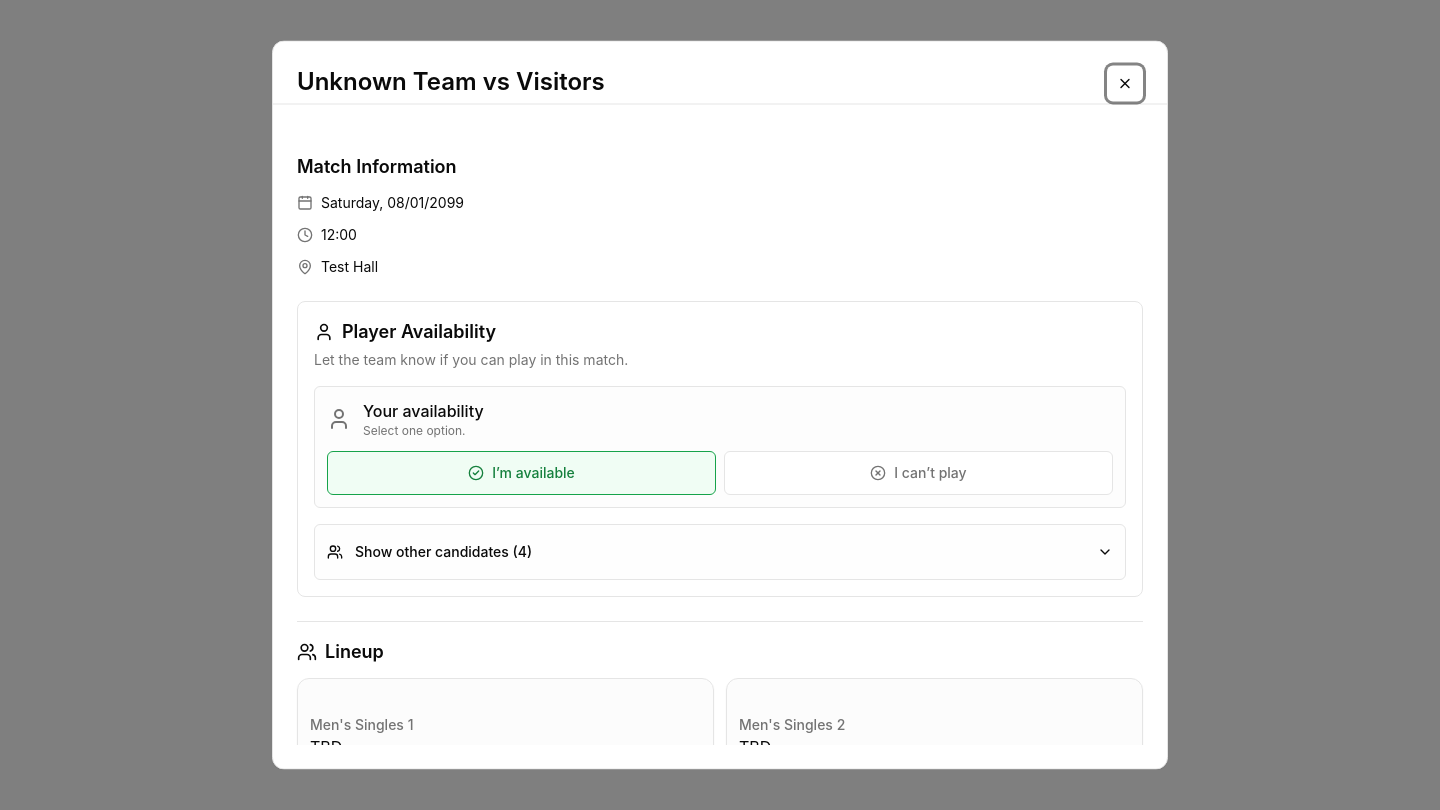
Test: explicit Match Availability › keeps self first and reveals other candidates as read-only secondary detail
Expected: the text "Explicit Available" is not shown
Click the button "Show other candidates (4)" at (444, 551), box [314,524,1126,580]
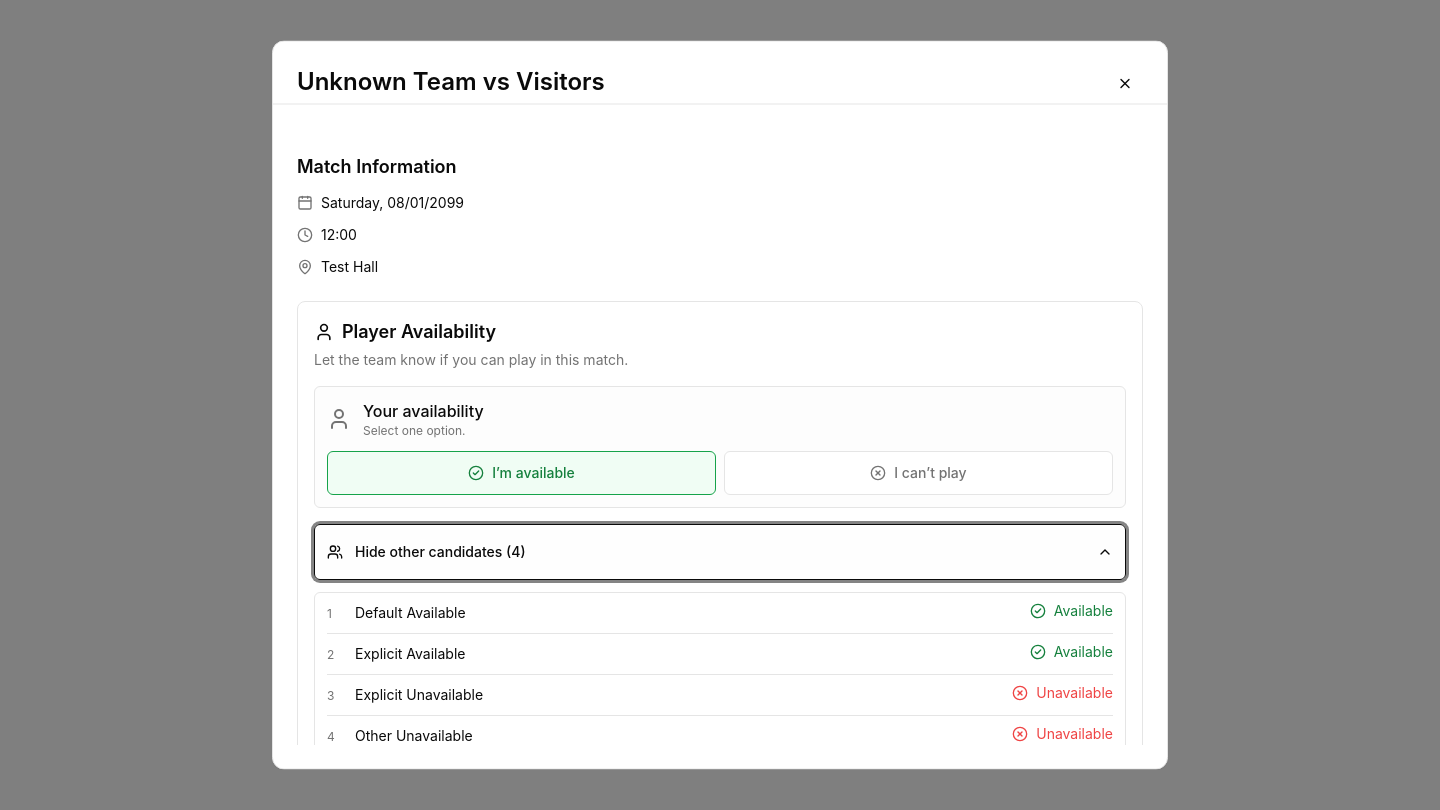
Expected: the number of elements named "Availability for" is 1, [327,450,1113,494]
Now the text "Available" is shown 2 times, box [1030,600,1113,620]; [1030,642,1113,662]
